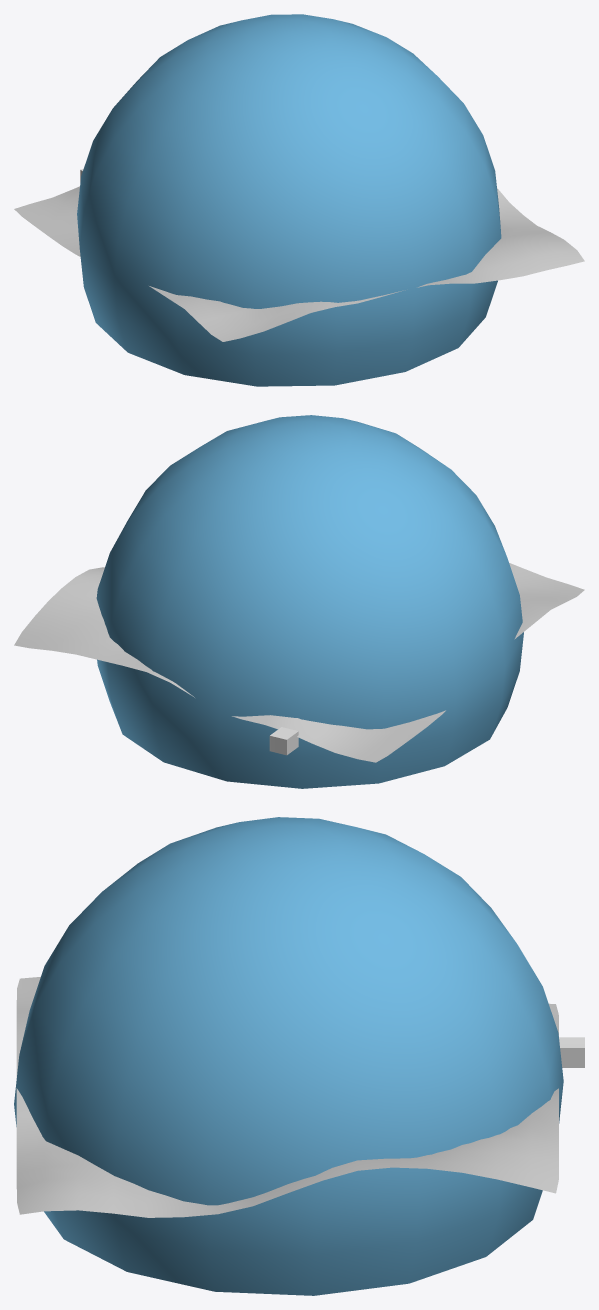
Rendered from Sand_Final.glb.
The picture shows the model from 3 angles, top to bottom: view 1: azimuth 30°, elevation 25°; view 2: azimuth 150°, elevation 25°; view 3: azimuth 270°, elevation 25°; orthographic projection. The views are drawn at different scales.
Visible parts, largest first — view 1: Sphere, Plane; view 2: Sphere, Plane, Plane01.019; view 3: Sphere, Plane, Plane01.019.
Boxes of the visible parts, x1,y1,x2,y2 form: Sphere: [77, 14, 501, 386]; Plane: [14, 186, 584, 341]; Sphere: [96, 415, 523, 788]; Plane: [14, 563, 584, 762]; Plane01.019: [269, 727, 298, 755]; Sphere: [14, 817, 563, 1295]; Plane: [16, 976, 558, 1217]; Plane01.019: [559, 1037, 584, 1067].
Bounding box in the file's own units: 563 × 384 × 574.
